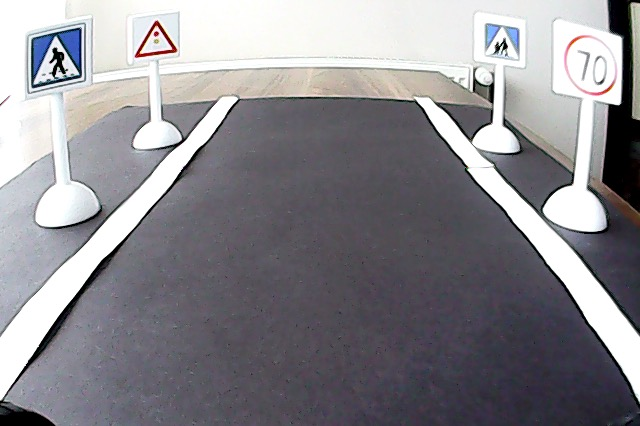pedestrian crossing: (28, 24, 86, 95)
red light: (133, 18, 178, 61)
school crossing: (484, 20, 522, 63)
speed limit 70: (559, 30, 621, 99)
